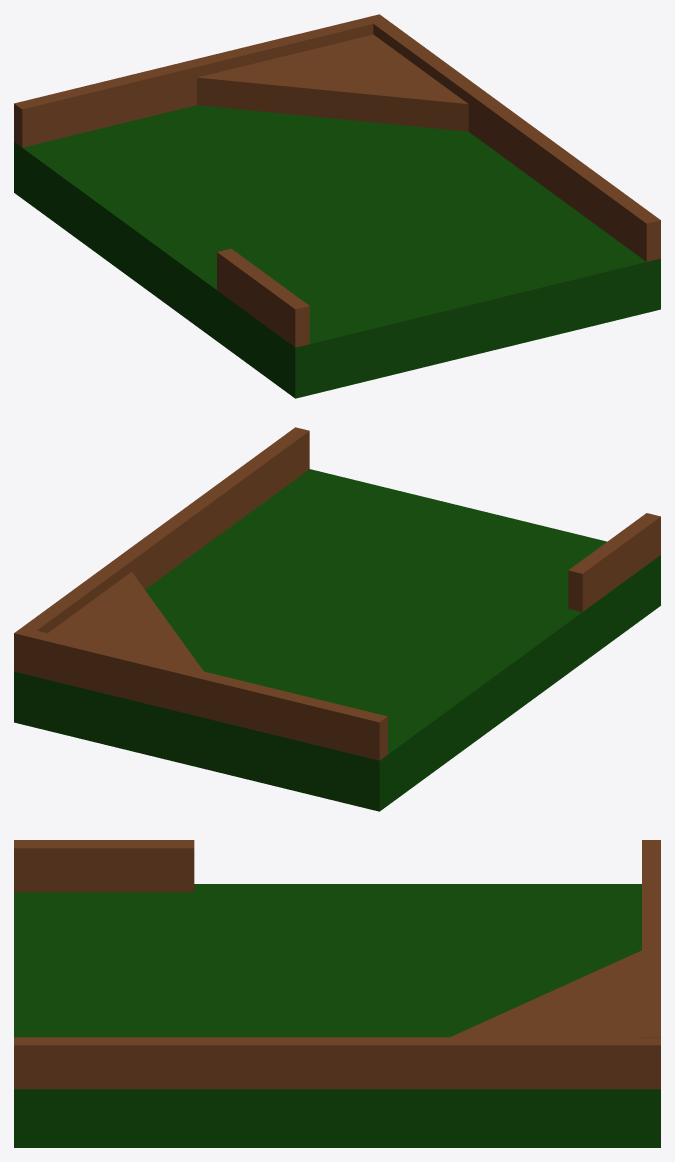
Rendered from minigolf_turn.glb.
3 renders of one model, top to bottom at view 1: azimuth 30°, elevation 25°; view 2: azimuth 150°, elevation 25°; view 3: azimuth 270°, elevation 25°, orthographic. The views are drawn at different scales.
Parts seen in each view (by area): view 1: Turn, Side.007, Side.002; view 2: Turn, Side.007, Side.002; view 3: Turn, Side.007, Side.002.
Part boxes in pixels (x1,y1,x2,y2): Turn: [14, 105, 660, 398]; Side.007: [14, 14, 660, 261]; Side.002: [217, 248, 309, 347]; Turn: [14, 469, 660, 811]; Side.007: [14, 427, 387, 760]; Side.002: [568, 513, 660, 611]; Turn: [14, 884, 660, 1147]; Side.007: [14, 840, 660, 1089]; Side.002: [14, 840, 194, 892].
Size of the model in its own units: 1.5 by 0.35 by 2.
